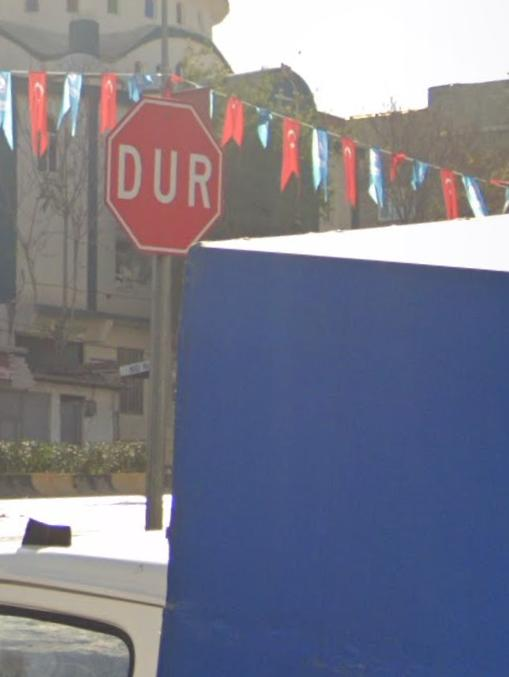stop: (105, 101, 223, 255)
